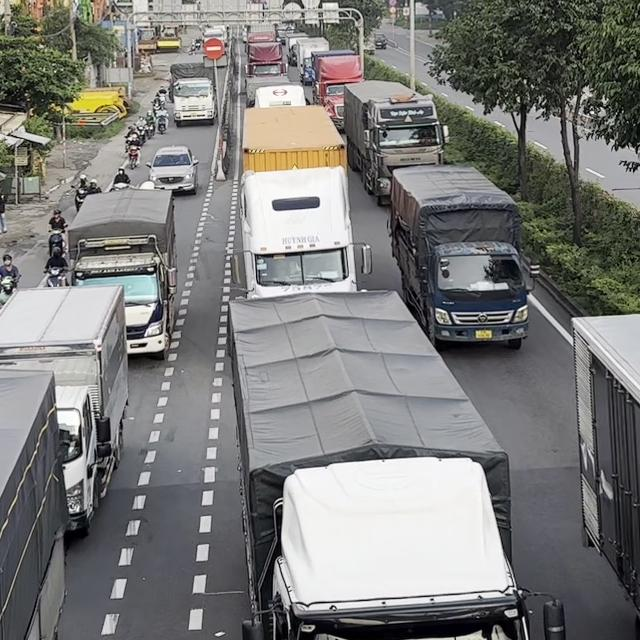car: (145, 144, 199, 195)
motorcycle: (71, 174, 101, 212), (47, 226, 67, 257), (0, 274, 19, 306), (43, 265, 68, 287), (72, 184, 88, 212), (127, 143, 140, 169), (134, 125, 148, 148), (143, 117, 155, 140), (158, 115, 167, 135)
truck: (225, 288, 562, 639), (0, 284, 129, 534), (386, 161, 535, 350), (228, 110, 372, 300), (570, 311, 639, 627), (64, 187, 178, 360), (0, 366, 70, 639), (342, 79, 450, 206), (310, 49, 364, 130), (171, 55, 216, 127), (288, 36, 329, 85), (247, 77, 307, 108), (245, 44, 288, 75)
